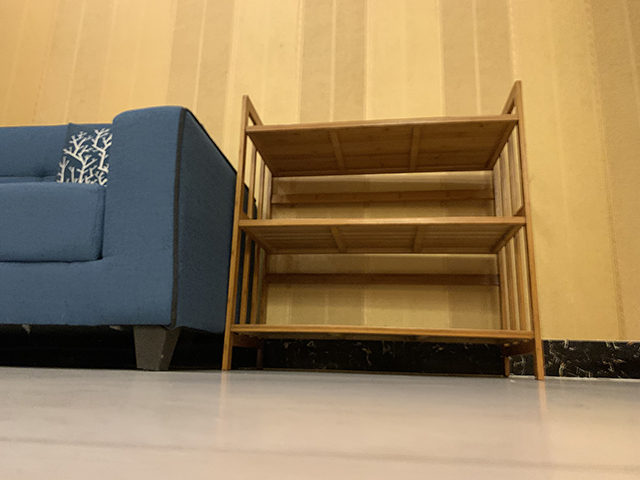sofa: (1, 105, 259, 373)
